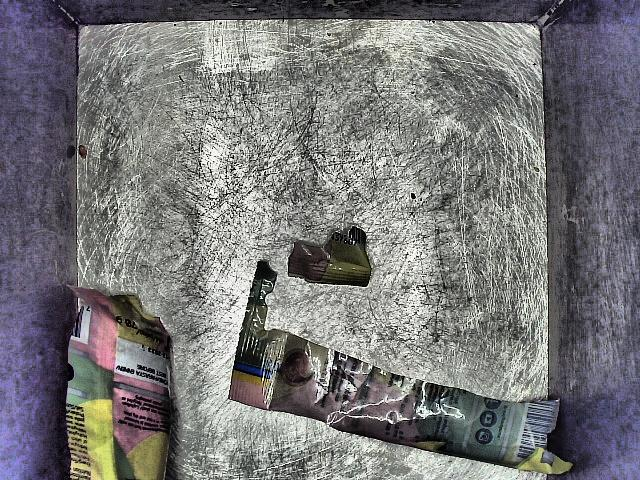Plastic: (245, 257, 573, 480), (63, 282, 185, 480), (276, 216, 376, 310)
